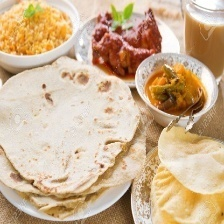sabzi: (90, 7, 160, 76)
